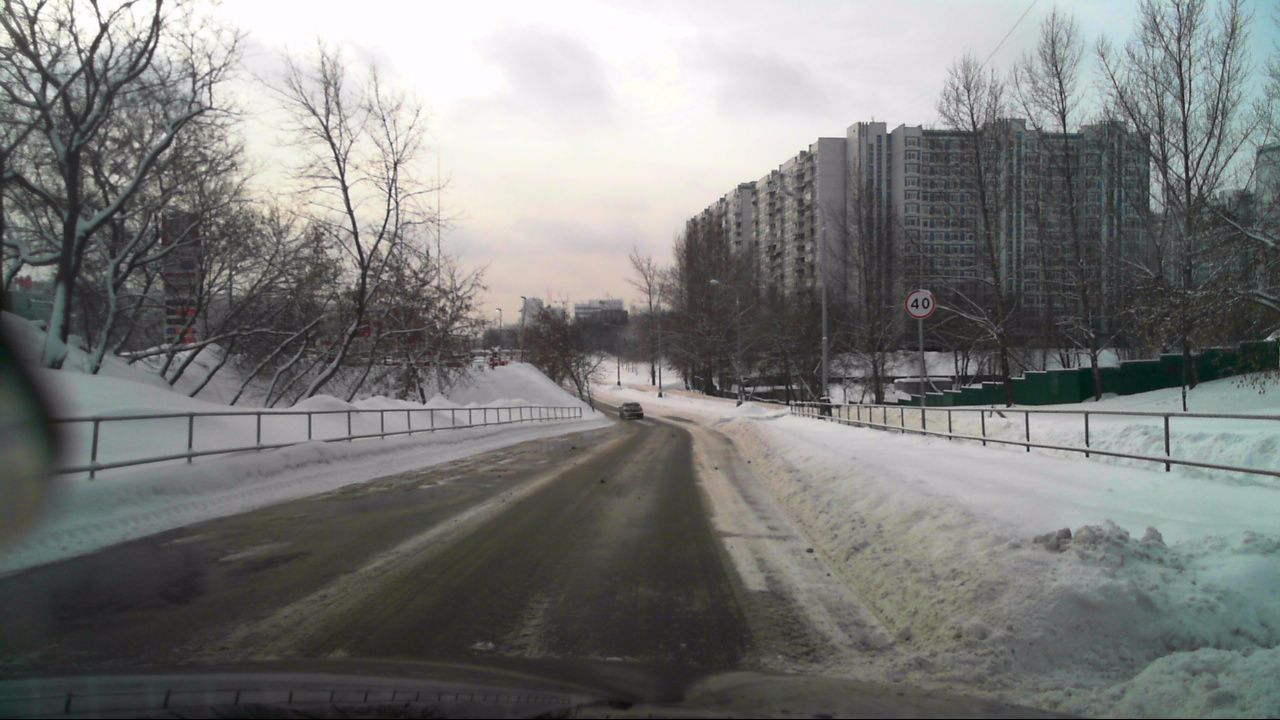speed_warning_40: (903, 288, 936, 322)
